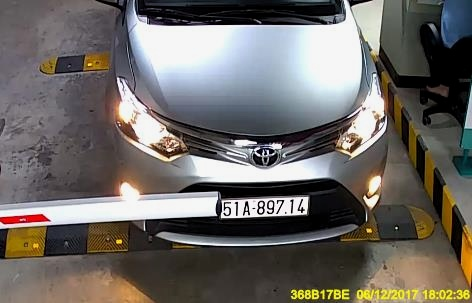plate: (221, 193, 309, 224)
